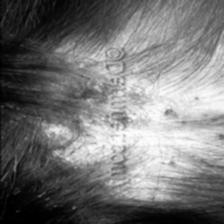Toxin: (126, 67, 206, 131), (66, 70, 108, 132)
